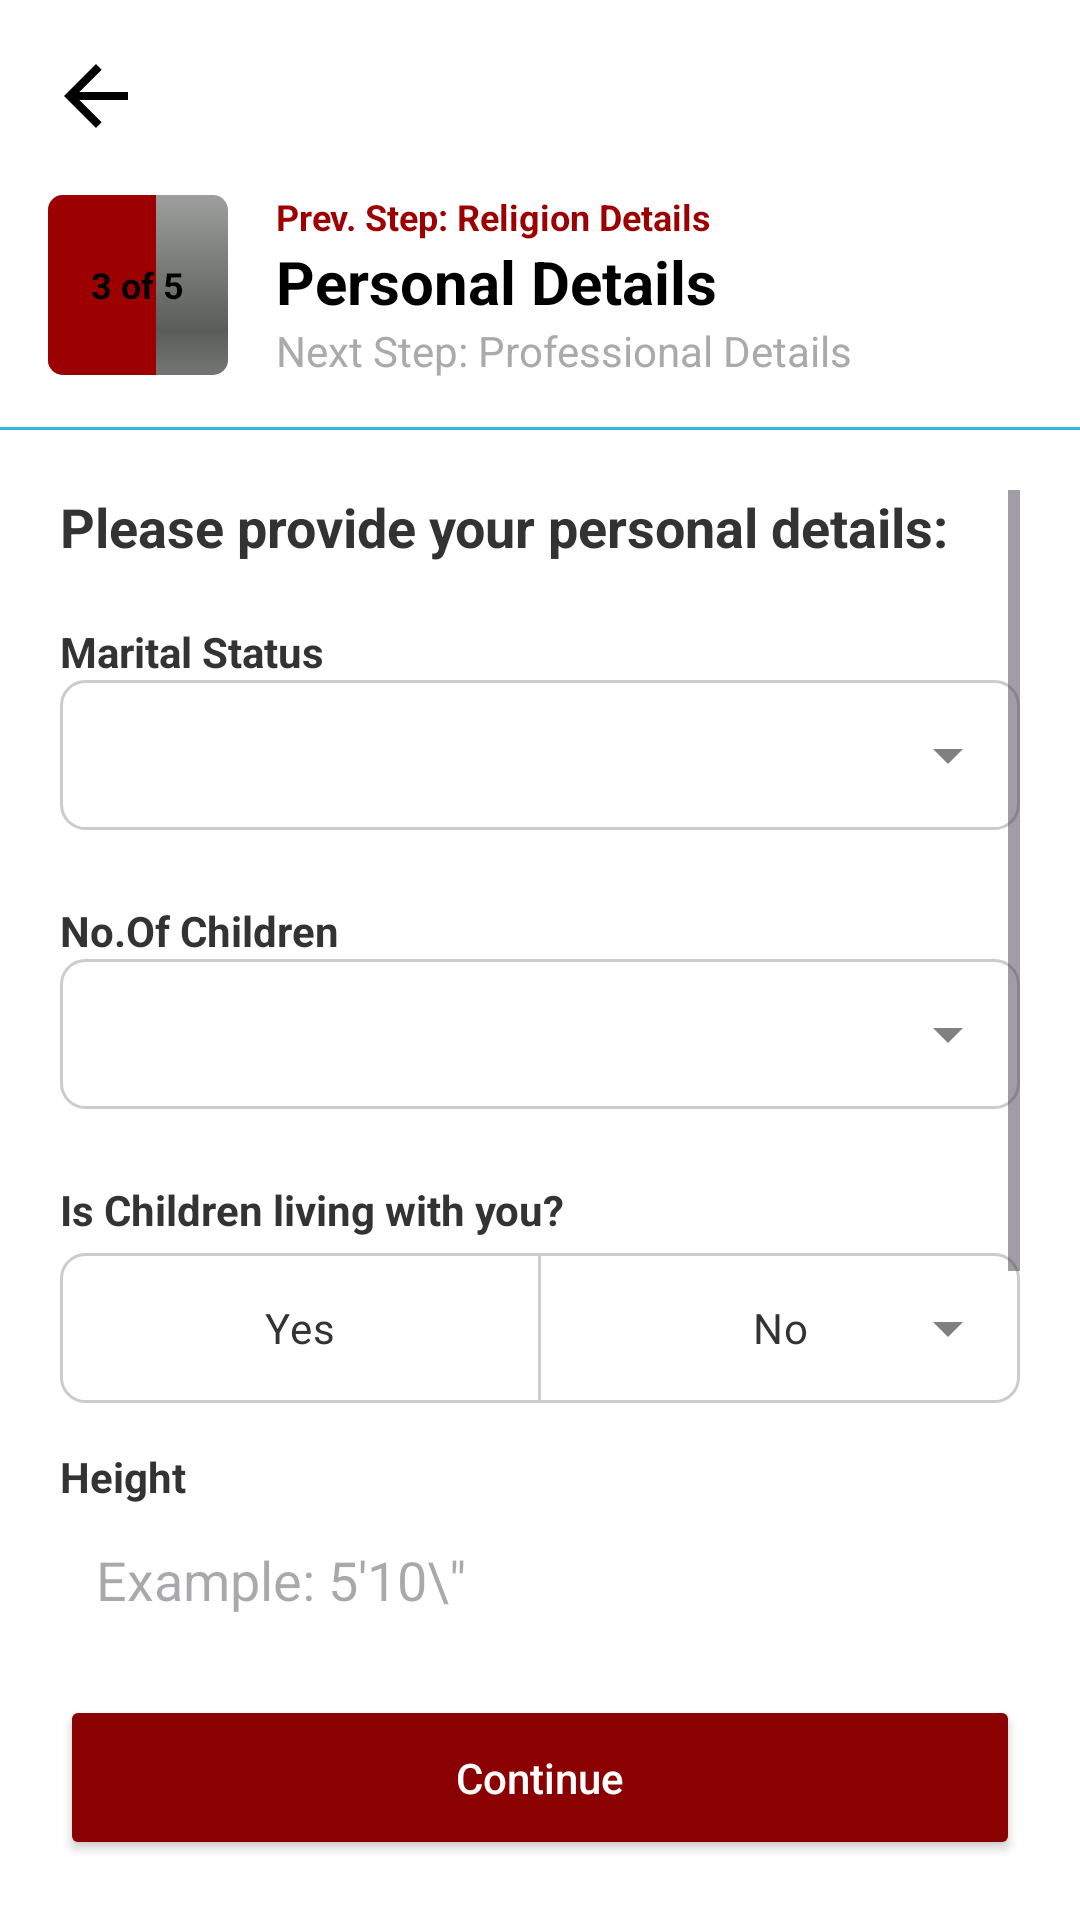

Named icons in this screenshot (1080 x 1920) and their centers, point (x, y):
back: point (96, 96)
